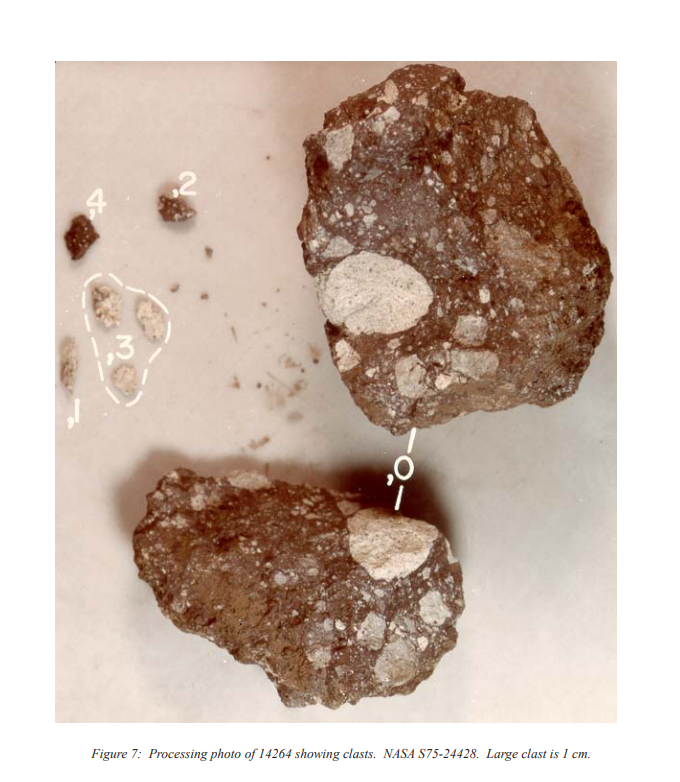Breccia: (297, 64, 597, 435), (91, 465, 512, 663)
